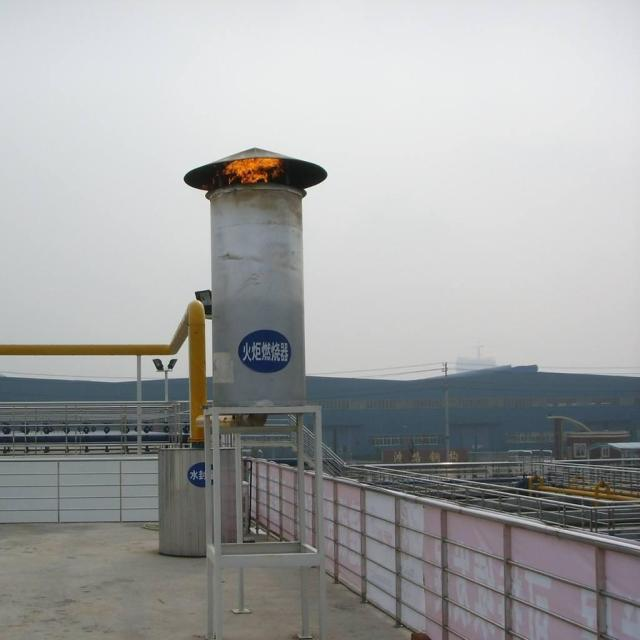Fire: (225, 156, 283, 183)
